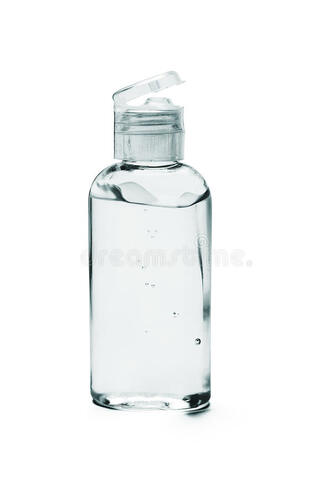sanitizer: (86, 69, 218, 415)
